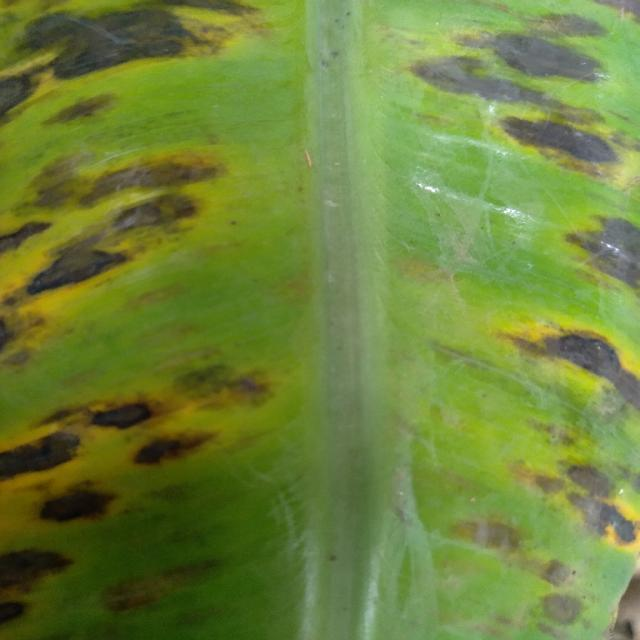Early_rust: (0, 0, 329, 640), (385, 0, 640, 640)
